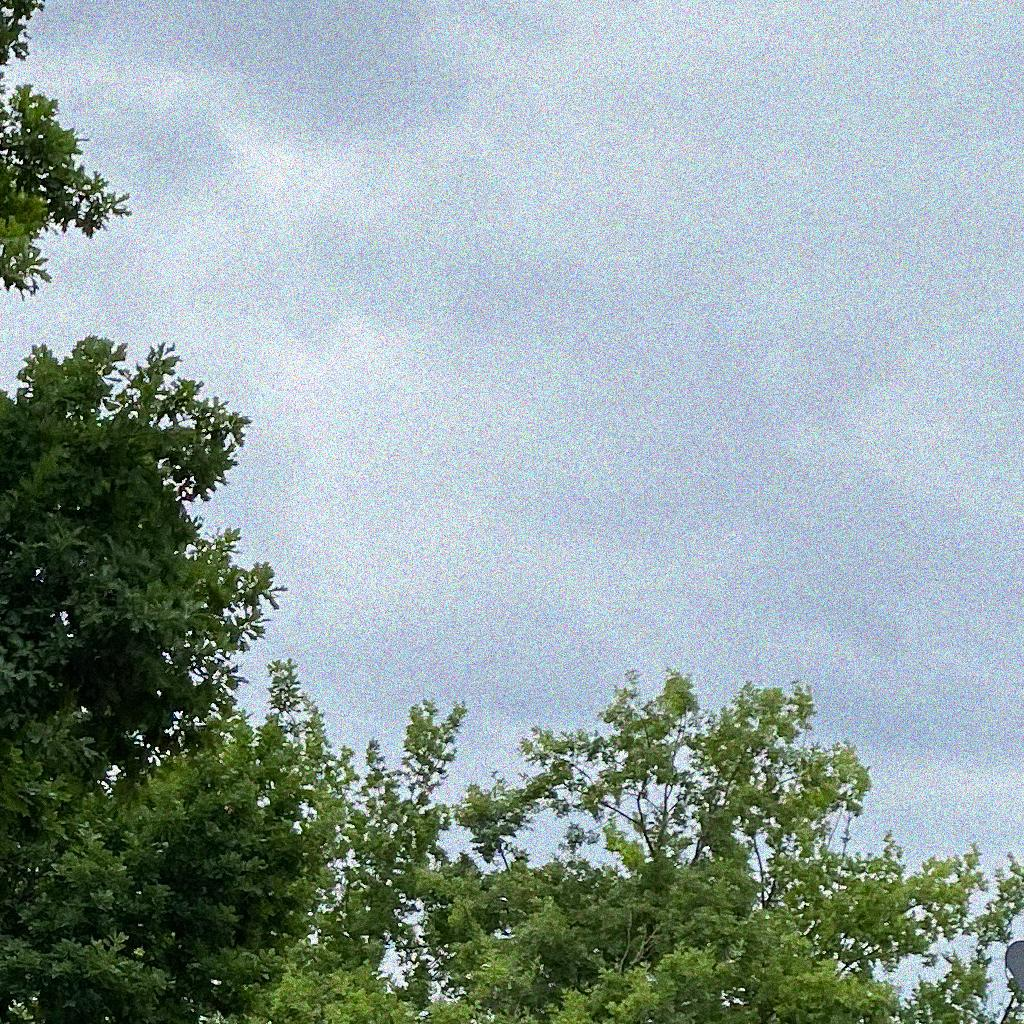tree: (260, 660, 1024, 1024), (1, 330, 343, 1023), (79, 957, 769, 1023), (1, 1, 133, 303)
